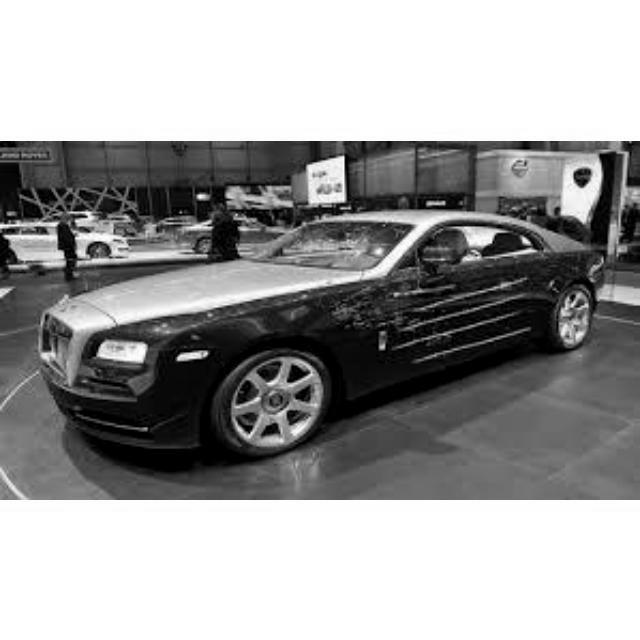Front-windscreen-damage: (270, 220, 396, 277)
doorouter-dent: (377, 267, 532, 381)
fender-dent: (223, 286, 389, 356)
